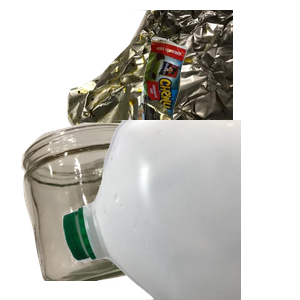glass: (19, 120, 184, 300)
metal: (60, 10, 300, 190)
plastic: (60, 120, 300, 300)
trash: (130, 34, 300, 203)
